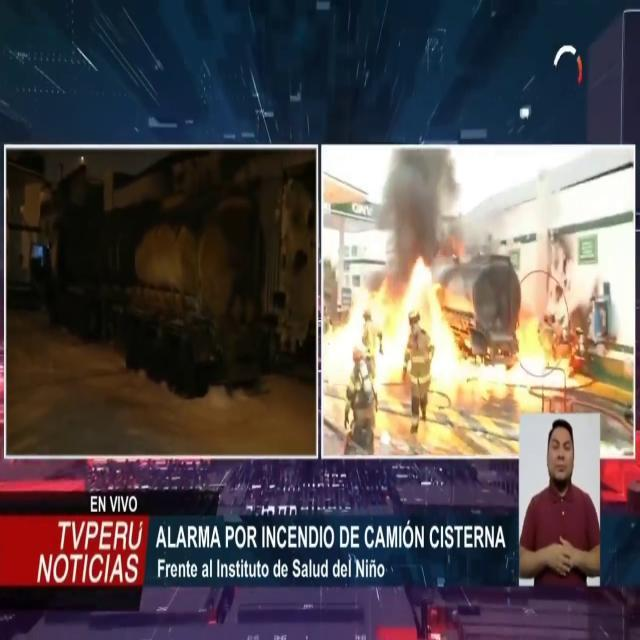Fire: (324, 253, 582, 405)
Smoke: (368, 146, 498, 262)
